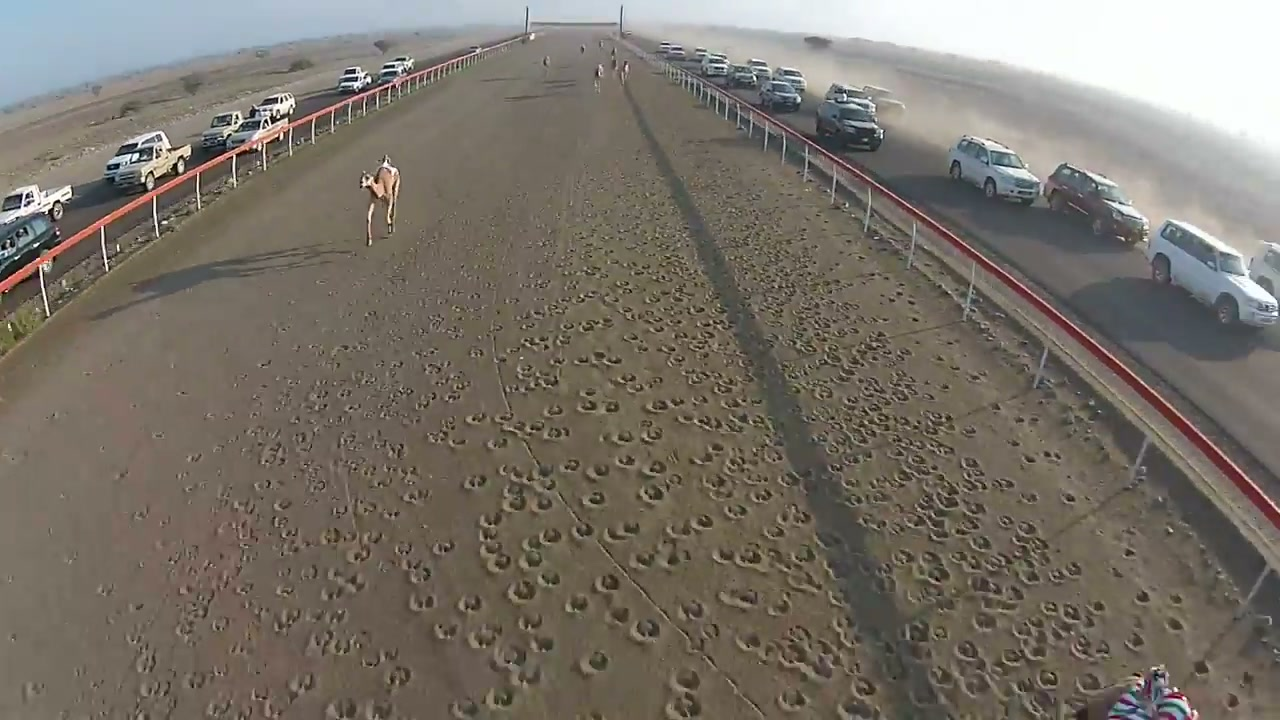animal_foot_print: (64, 104, 1279, 719), (513, 208, 1151, 716)
